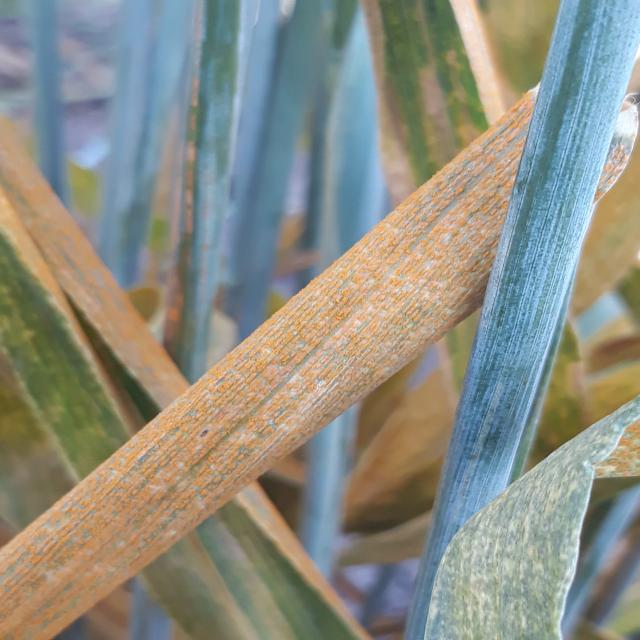yellow_rust: (0, 87, 640, 640), (362, 2, 502, 192)
